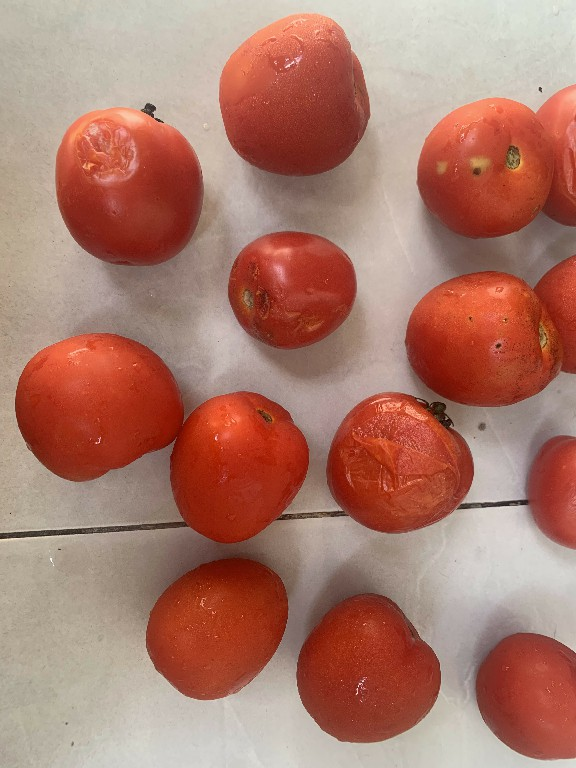NG: (43, 93, 213, 274), (391, 263, 553, 412), (319, 384, 478, 529), (406, 90, 547, 242), (221, 225, 369, 350)
OK: (215, 8, 384, 182), (14, 323, 185, 491), (135, 549, 306, 701), (297, 587, 450, 753), (167, 390, 320, 546), (465, 626, 576, 744)
